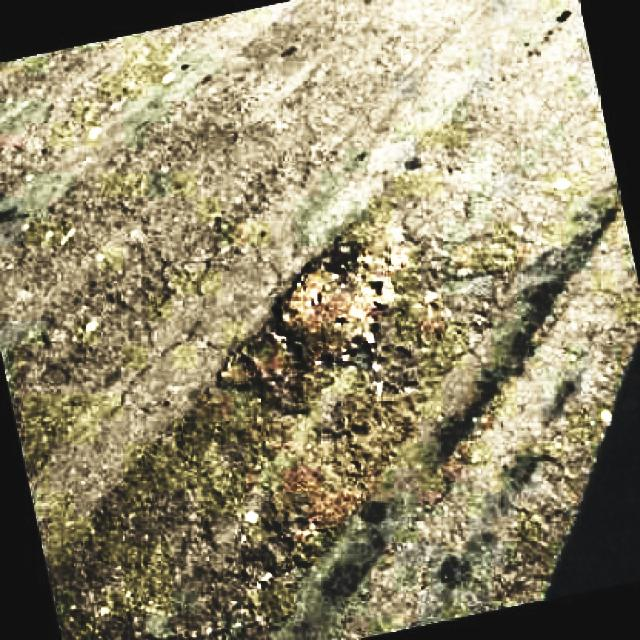pothole: (268, 249, 384, 369)
